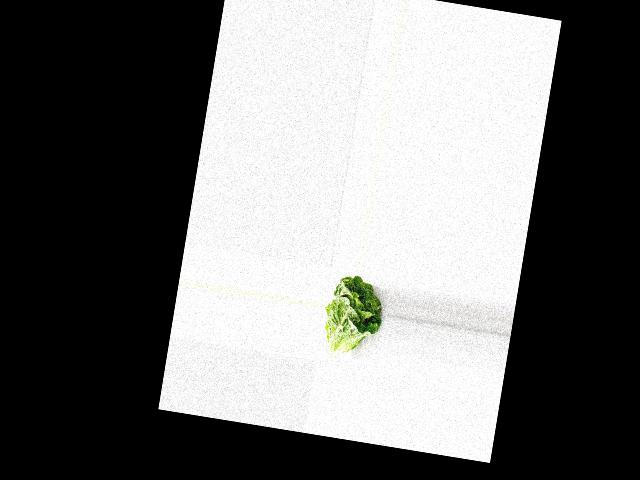lettuce: (317, 272, 388, 362)
